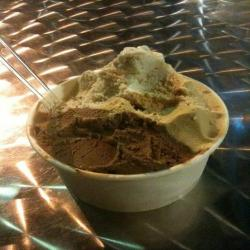icecream: (16, 45, 235, 225)
